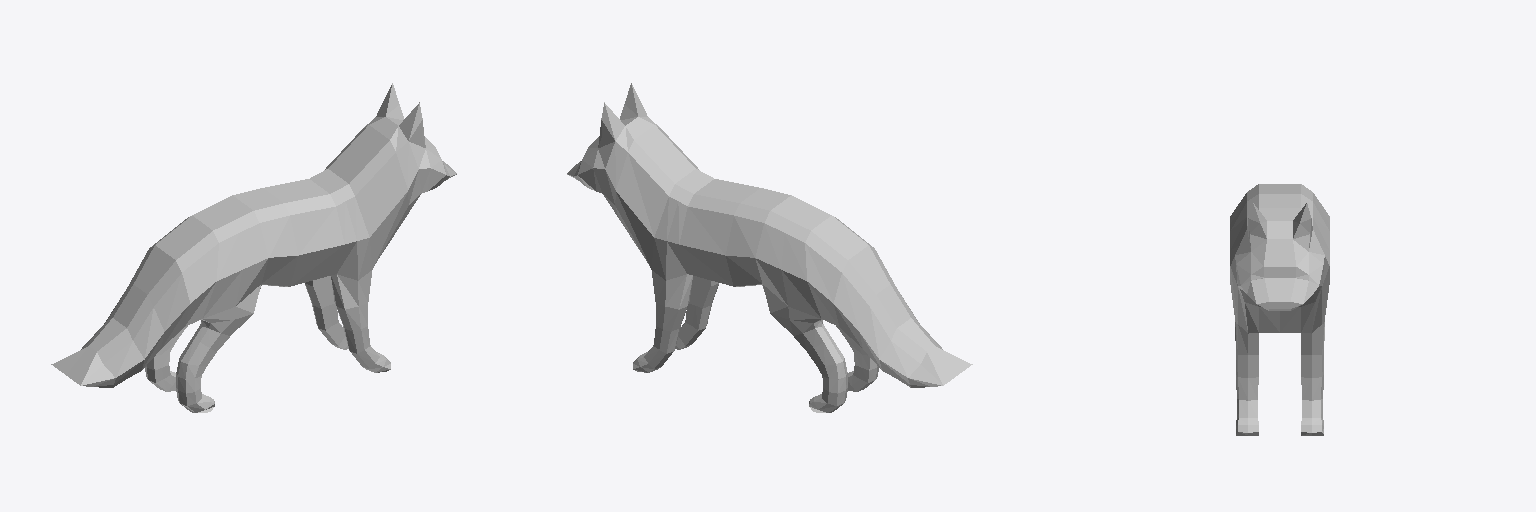
File: Low Poly Fox.obj
3 views of the same model, side by side, from view 1: azimuth 30°, elevation 25°; view 2: azimuth 150°, elevation 25°; view 3: azimuth 270°, elevation 25° (orthographic).
Parts seen in each view (by area): view 1: Cube_Cube.002; view 2: Cube_Cube.002; view 3: Cube_Cube.002.
Part boxes in pixels (x1,y1,x2,y2): Cube_Cube.002: (51,83,456,412); Cube_Cube.002: (567,83,972,412); Cube_Cube.002: (1230,184,1329,435).
Bounding box in the file's own units: 0.7419 × 0.4739 × 0.1676.